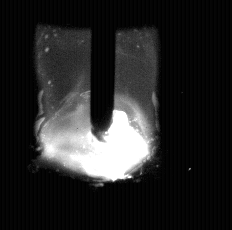arame: (92, 0, 115, 142)
poca: (39, 0, 152, 230)
